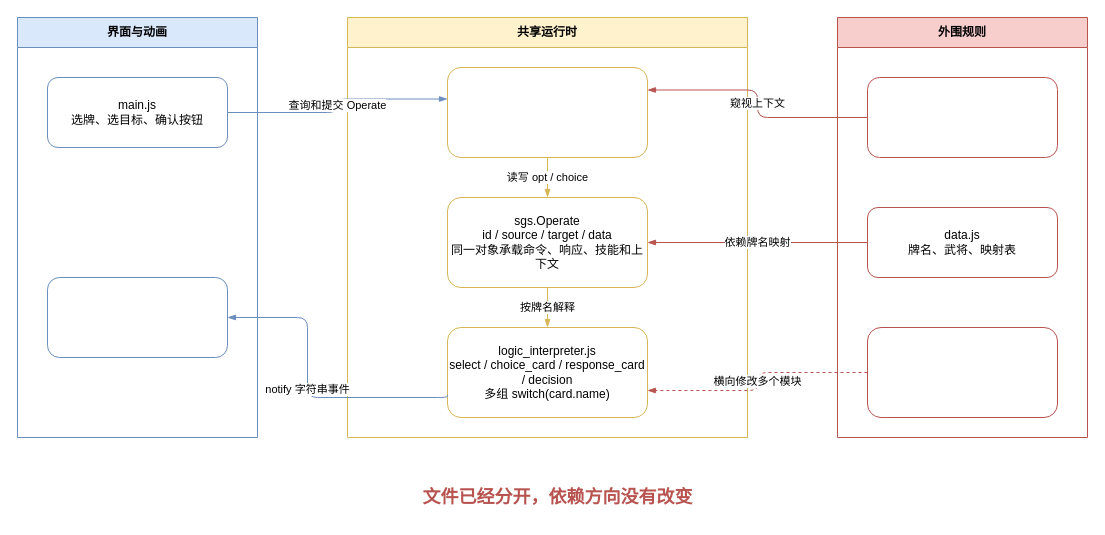
Some shapes in this 1105 by 535 pixel diagram are drawn without their labels. The centre of each missing label's shape, as x and y in pixels:
interface.js / animation.js 监听字符串事件并修改 DOM: point 137,317
logic_ai.js ask_card / usecard 直接读取 opt.target 与 bout.opt[0]: point 962,117
sgs.Bout player / card / opt / choice / step 可变数组同时充当状态、栈与请求队列: point 547,112
新卡牌 / 新技能 必须同时理解目标、响应、无懈、AI、动画和队列顺序: point 962,372
